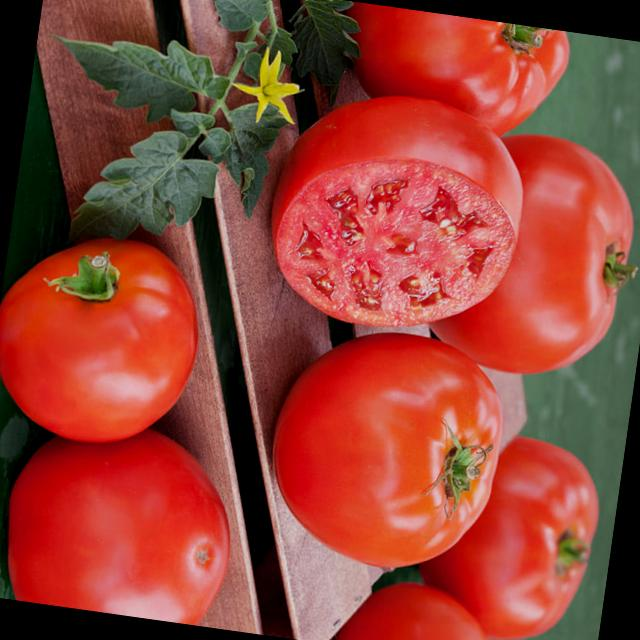tomato: (262, 325, 508, 577), (0, 232, 211, 452)
